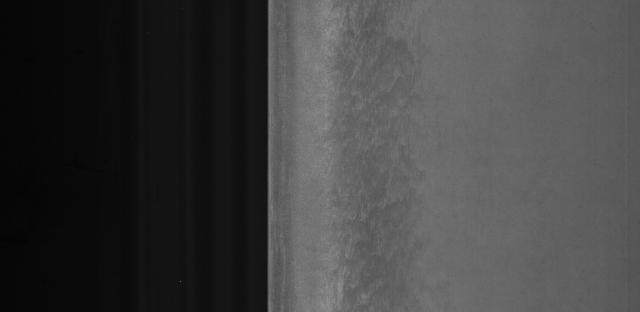silk_spot: (319, 18, 430, 298)
